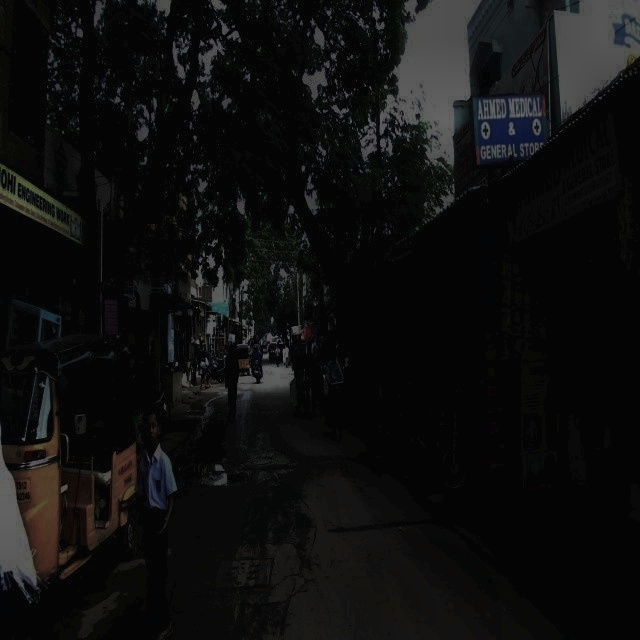Pothole: (194, 443, 264, 515), (272, 457, 316, 509)
Sewer Cover: (190, 536, 295, 606)
